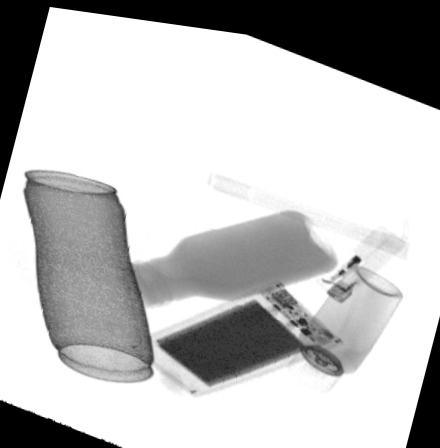Lighter: (313, 214, 409, 295)
Powerbank: (126, 273, 344, 393)
Sprayer: (287, 253, 405, 385)
